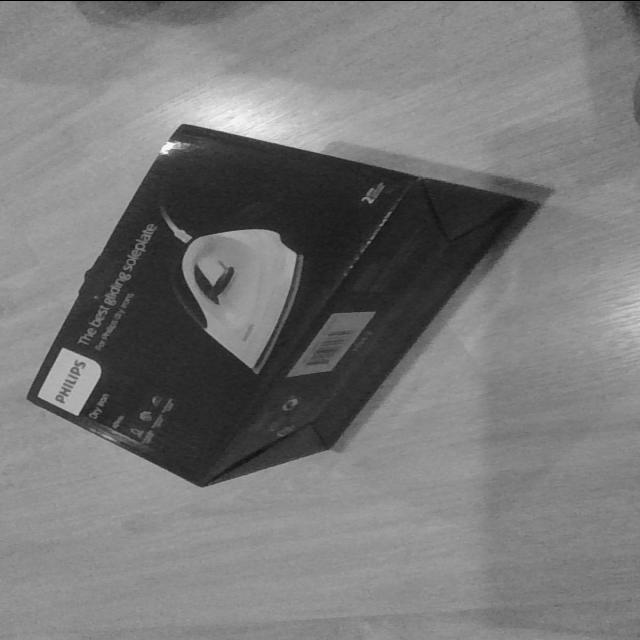IRON: (23, 121, 544, 489)
